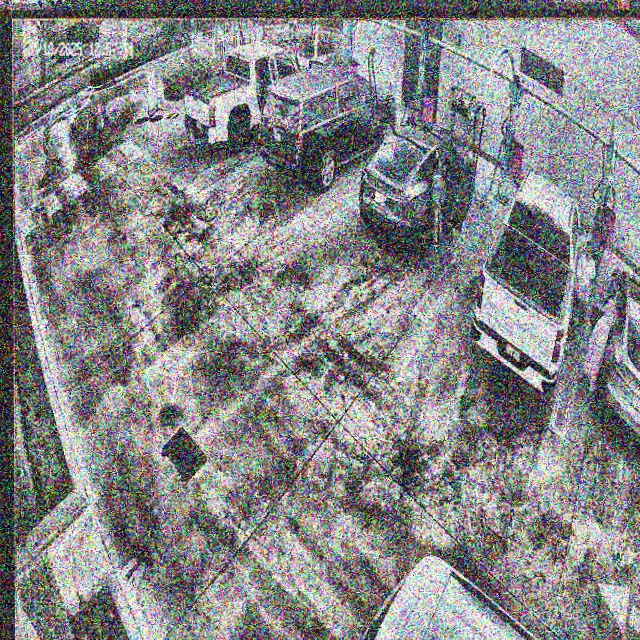Car: (469, 170, 577, 394), (257, 70, 396, 190), (361, 124, 474, 248)
